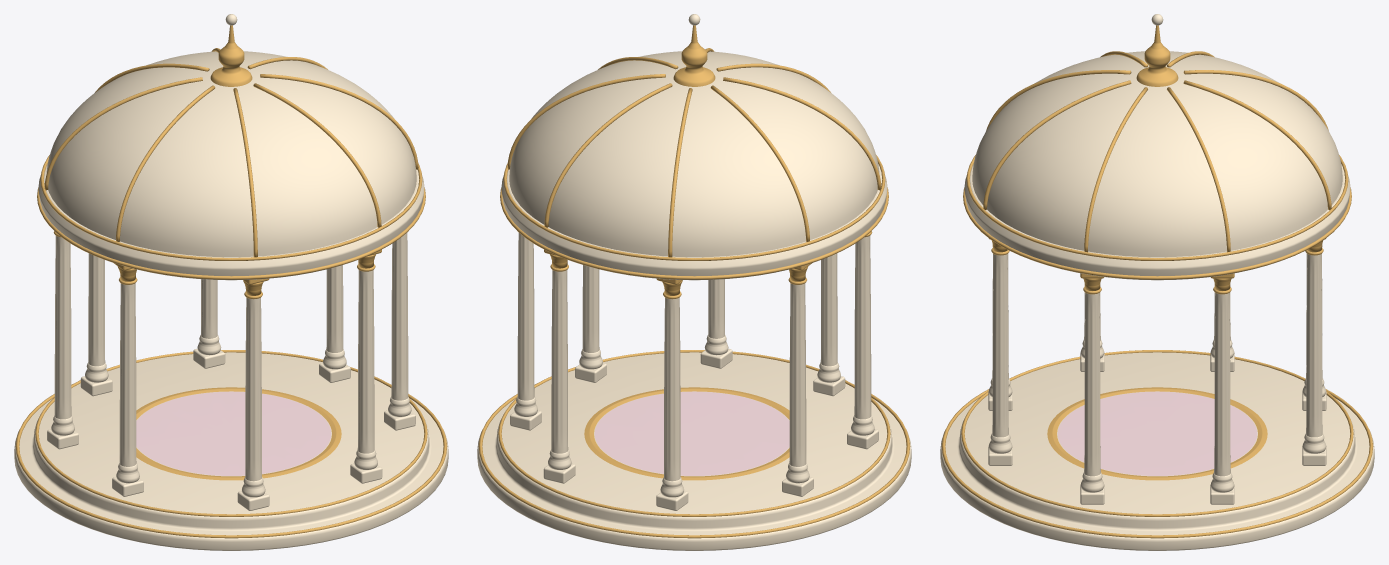
The model's file is pearl-pavilion.glb.
The picture shows the model from 3 angles, left to right: view 1: azimuth 30°, elevation 25°; view 2: azimuth 150°, elevation 25°; view 3: azimuth 270°, elevation 25°; orthographic projection.
Parts seen in each view (by area): view 1: PearlPavilion; view 2: PearlPavilion; view 3: PearlPavilion.
Boxes of the visible parts, left/top/right/bottom form: PearlPavilion: left=14, top=14, right=448, bottom=550; PearlPavilion: left=477, top=14, right=911, bottom=550; PearlPavilion: left=940, top=14, right=1374, bottom=550.
Size of the model in its own units: 6.7 by 7.58 by 6.7.
